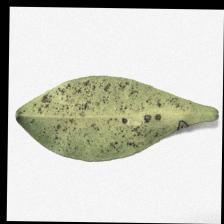canker: (29, 75, 191, 141)
